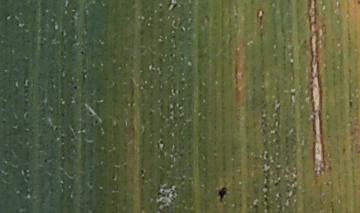tarspot: (216, 186, 229, 203), (92, 117, 99, 127), (71, 82, 78, 91), (157, 138, 164, 146), (22, 99, 29, 107), (137, 168, 145, 174), (41, 158, 49, 164), (79, 50, 86, 56), (1, 119, 7, 125), (356, 1, 360, 6)
